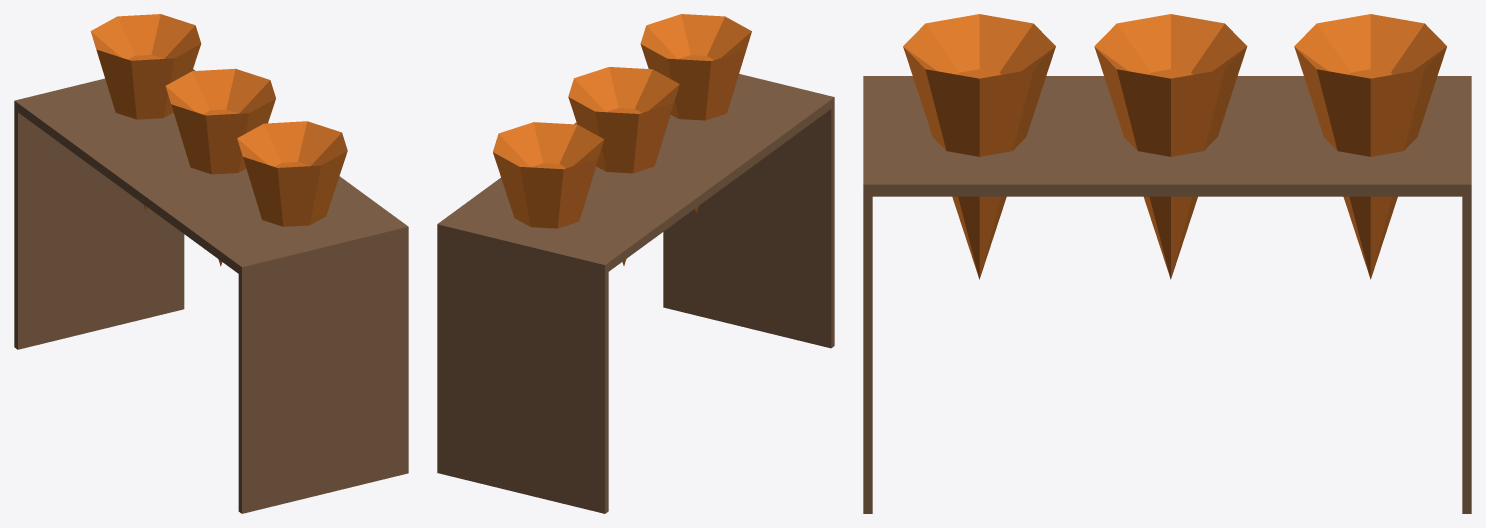
Rendered from SM_iceCreamStand_01.glb.
The picture shows the model from 3 angles, left to right: view 1: azimuth 30°, elevation 25°; view 2: azimuth 150°, elevation 25°; view 3: azimuth 270°, elevation 25°; orthographic projection. The views are drawn at different scales.
Parts seen in each view (by area): view 1: SM_iceCreamStand_01; view 2: SM_iceCreamStand_01; view 3: SM_iceCreamStand_01.
Part boxes in pixels (box(x1,y1,x2,y2)): SM_iceCreamStand_01: box(14, 14, 408, 513); SM_iceCreamStand_01: box(437, 14, 834, 513); SM_iceCreamStand_01: box(863, 14, 1471, 513).
Bounding box in the file's own units: 0.1907 × 0.3443 × 0.4516.
1 material, 1 textured.
